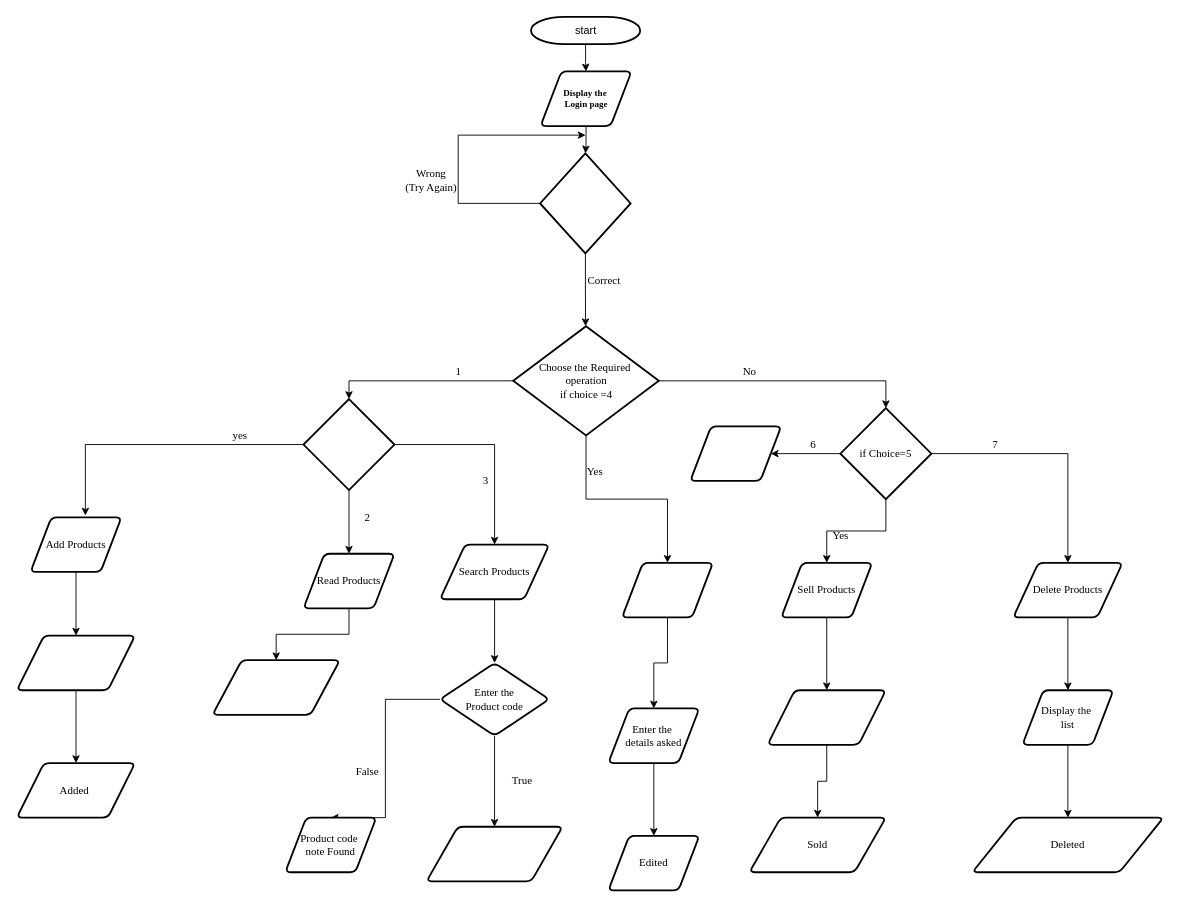
Some shapes in this 1179 by 906 pixel diagram are drawn without their labels. The shapes that lost their labels are listed below. From the top down, each one's centre as x and y in pixels, then its label:
At point 585,203: "Username: Password:".
At point 348,444: "If choice =1".
At point 735,453: "Closed".
At point 667,589: "Edit Products".
At point 75,662: "Enter the Product Details".
At point 275,687: "Display the Lists of Products".
At point 826,717: "Enter the Product code & Quantity".
At point 494,853: "Display the Product Information".
